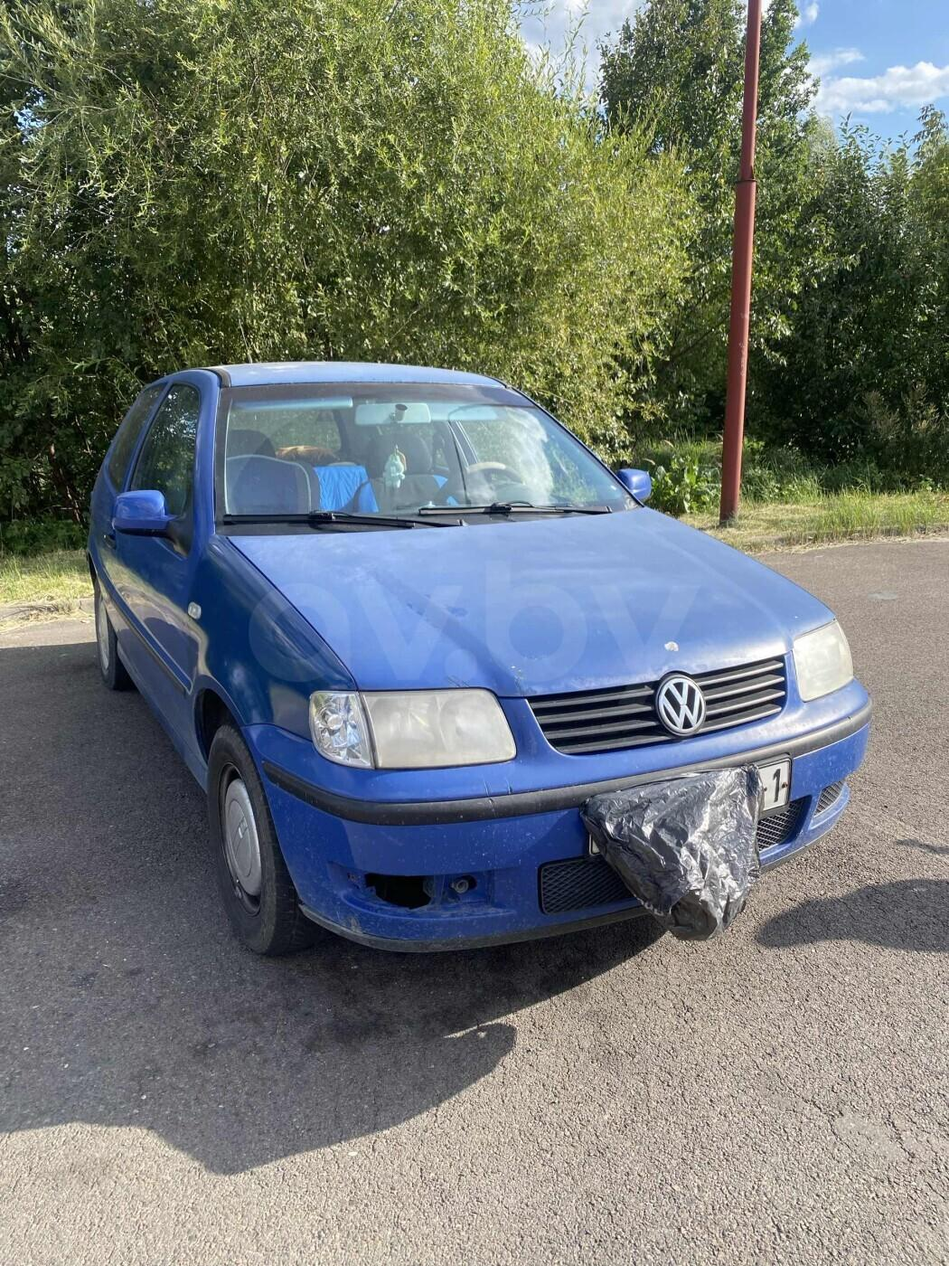Polo_2000-2002: (77, 351, 876, 980)
